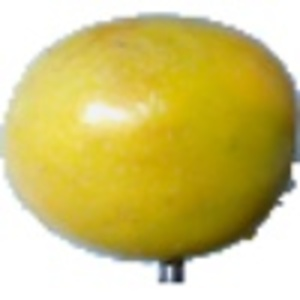maracujá: (1, 12, 300, 287)
